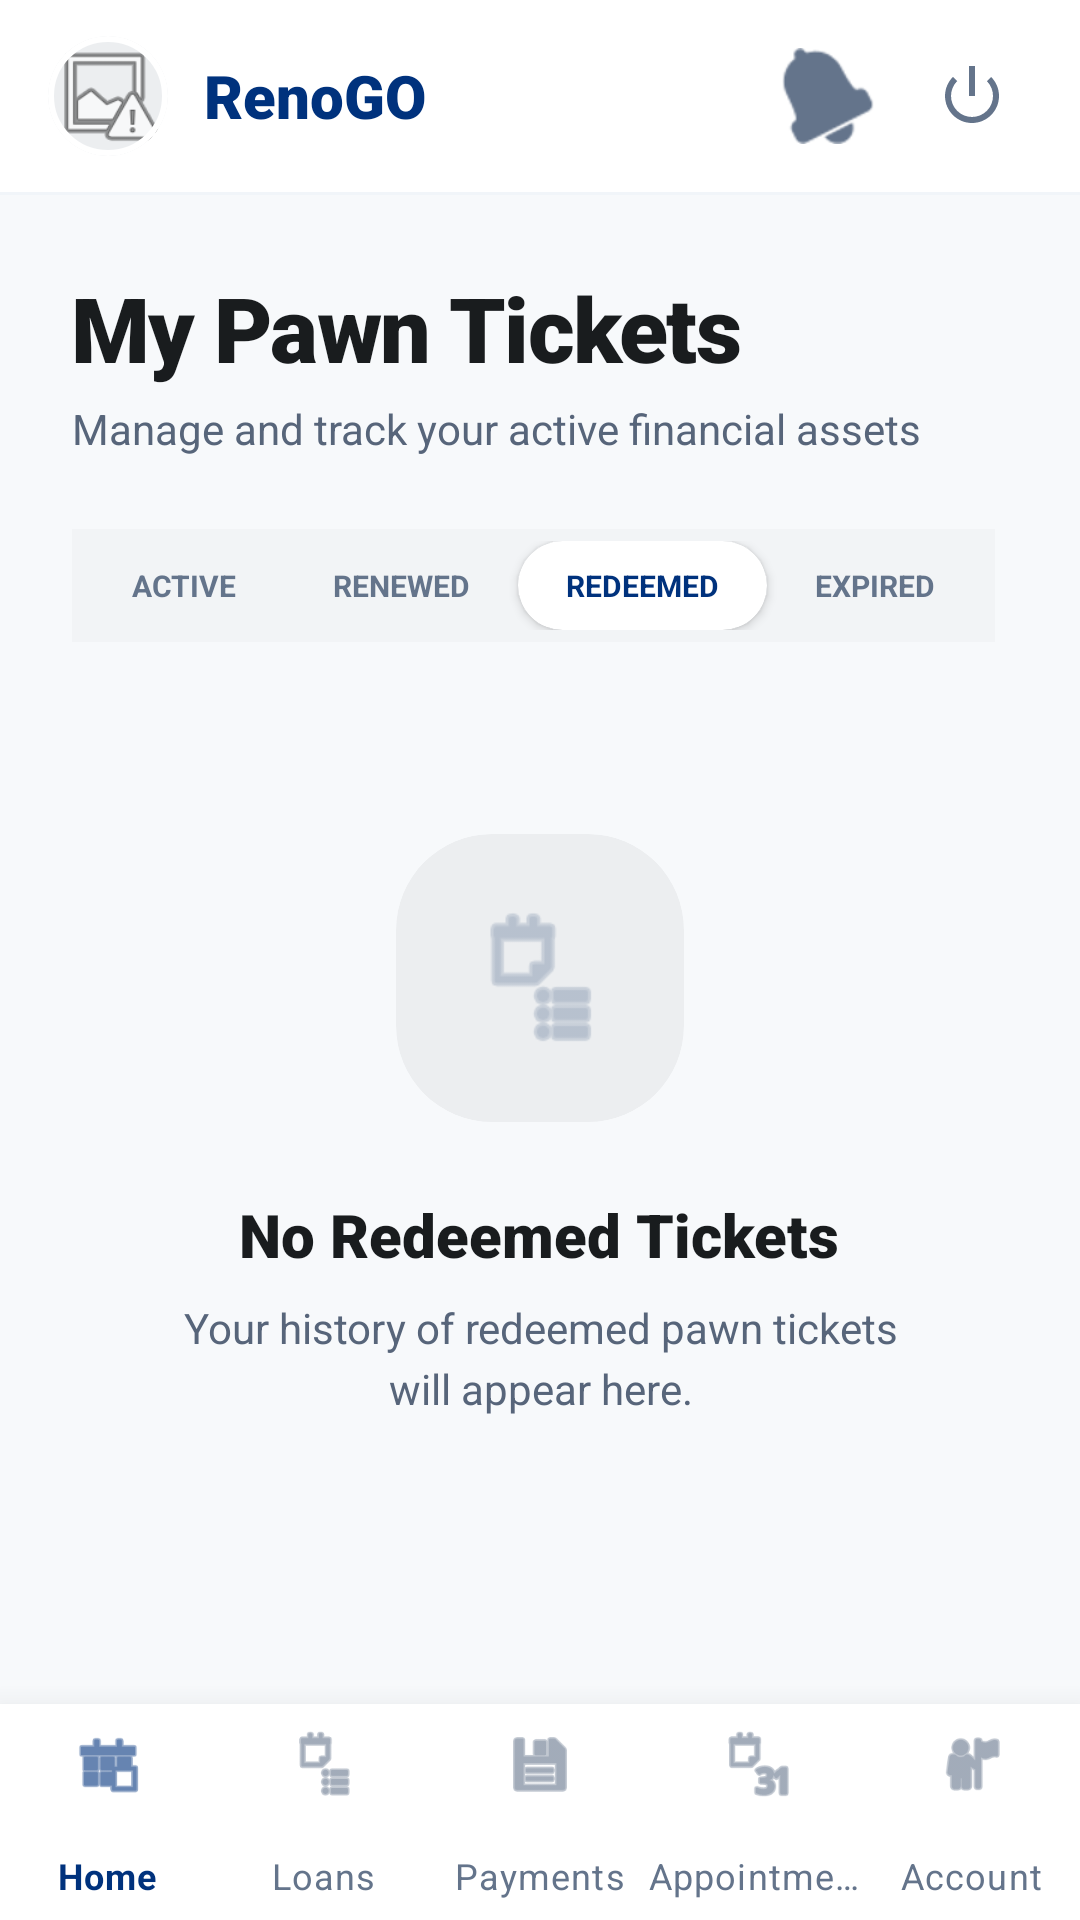

Icon click points for this 1080×1920 phone screenshot, format [x,y]:
agenda: [541,977]
lock power off: [972,94]
popup reminder: [828,96]
